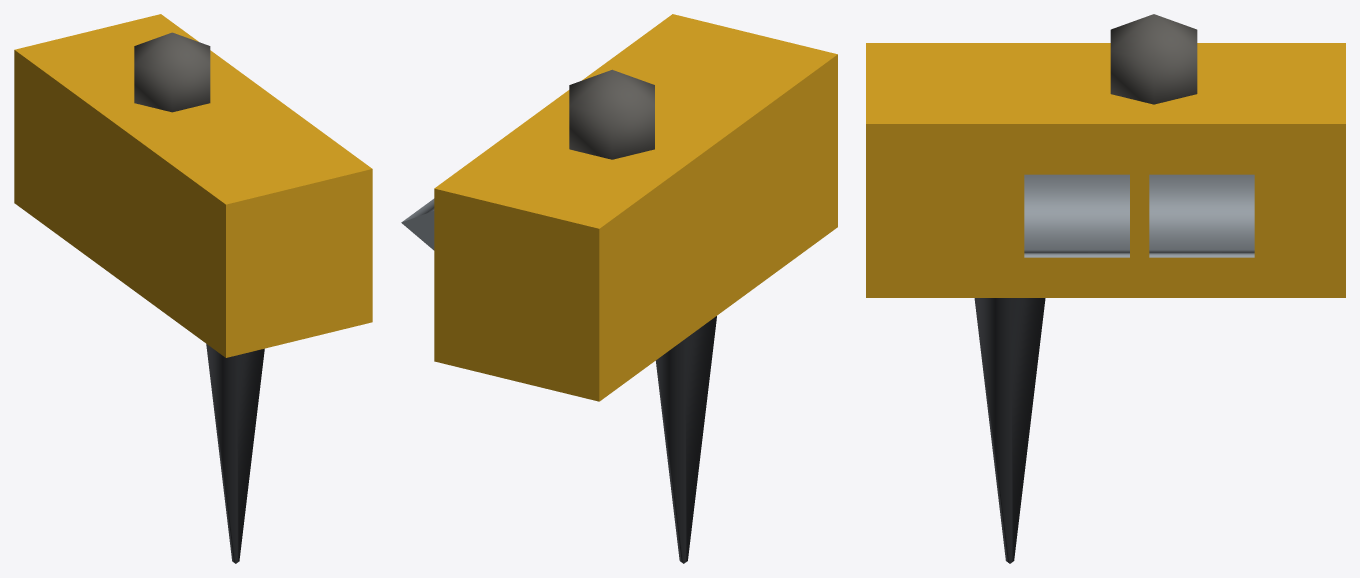
The model's file is space_orbital_extractor_t2_lod2.glb.
3 renders of one model, left to right at view 1: azimuth 30°, elevation 25°; view 2: azimuth 150°, elevation 25°; view 3: azimuth 270°, elevation 25°, orthographic. The views are drawn at different scales.
Parts seen in each view (by area): view 1: body, drill; view 2: body, drill; view 3: body, drill.
Part boxes in pixels (left/top/right/bottom): body: left=14, top=14, right=372, bottom=357; drill: left=206, top=344, right=264, bottom=563; body: left=401, top=14, right=837, bottom=401; drill: left=655, top=316, right=716, bottom=563; body: left=866, top=14, right=1345, bottom=297; drill: left=974, top=298, right=1045, bottom=563.
Bounding box in the file's own units: 5.9 × 12.6 × 10.
